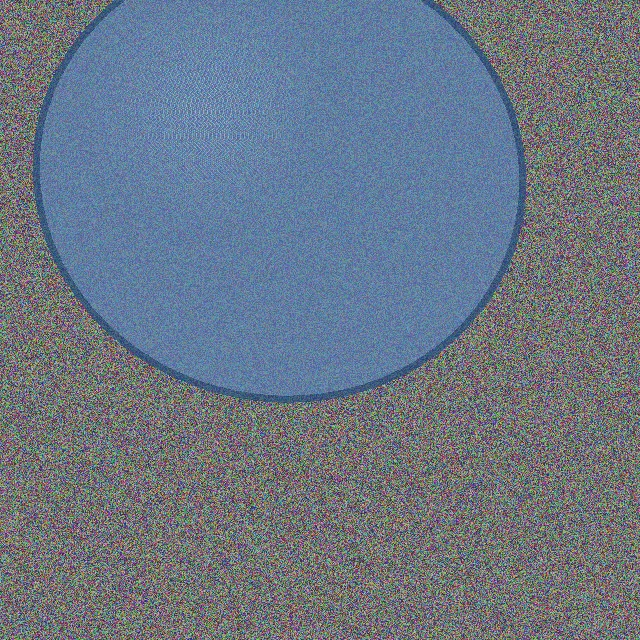lens: (37, 0, 521, 398)
